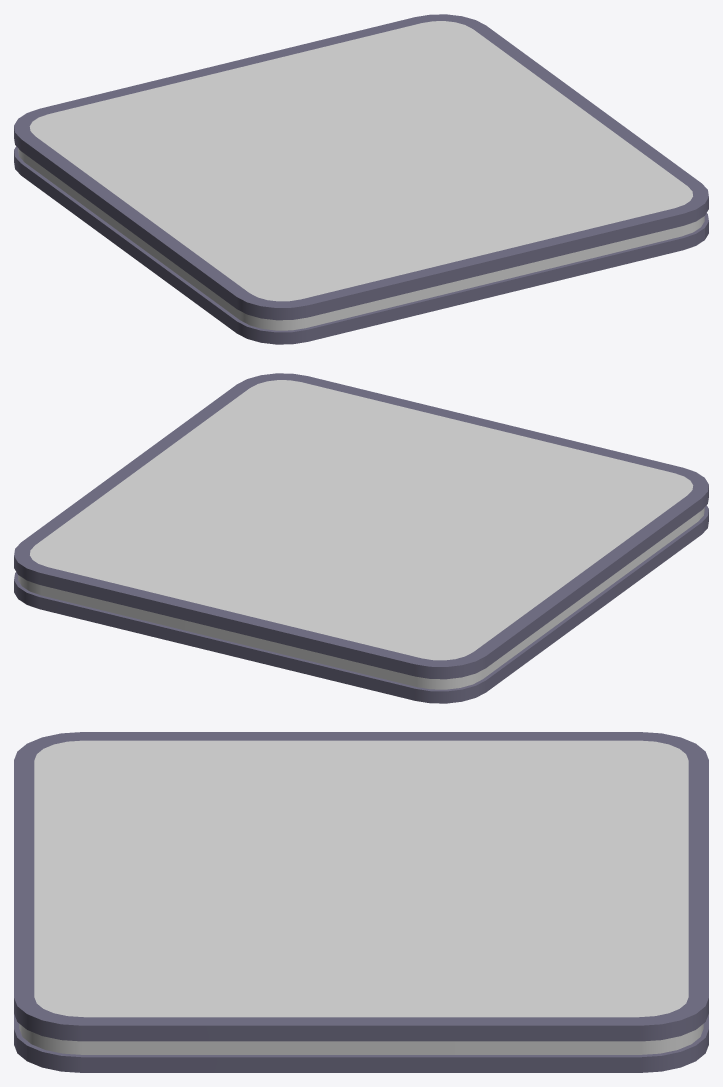
Rendered from env_undergroundstation_concreteplatform06.fbx.
3 renders of one model, top to bottom at view 1: azimuth 30°, elevation 25°; view 2: azimuth 150°, elevation 25°; view 3: azimuth 270°, elevation 25°, orthographic. The views are drawn at different scales.
Visible parts, largest first — view 1: env_undergroundstation_concreteplatform06; view 2: env_undergroundstation_concreteplatform06; view 3: env_undergroundstation_concreteplatform06.
Boxes of the visible parts, box(x1,y1,x2,y2) form: env_undergroundstation_concreteplatform06: box(14, 14, 708, 344); env_undergroundstation_concreteplatform06: box(14, 373, 708, 703); env_undergroundstation_concreteplatform06: box(14, 732, 708, 1072).
Size of the model in its own units: 160 by 12 by 160.
